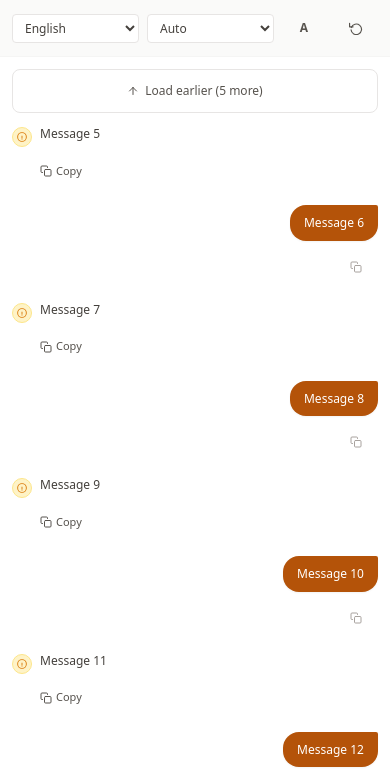
Scenario: InsightChat — loadEarlier button (lines 196-206) › clicking 'Load earlier messages' decrements loadedFrom and hides button when at 0
This screenshot has width=390, height=772.
Click the button "Load earlier (5 more)" at (195, 91), box [12,69,378,113]
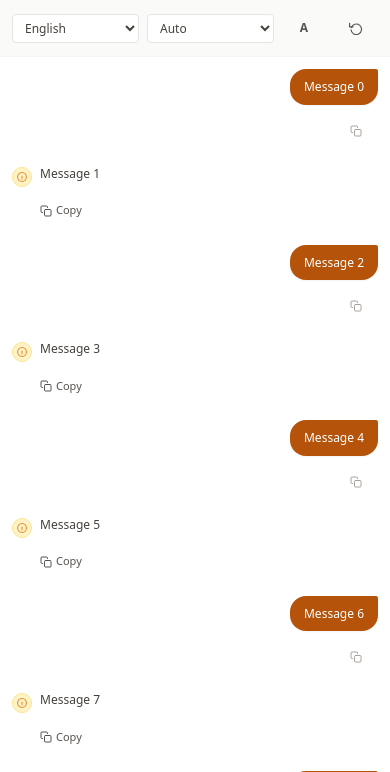
Now the button "Load earlier" is gone
